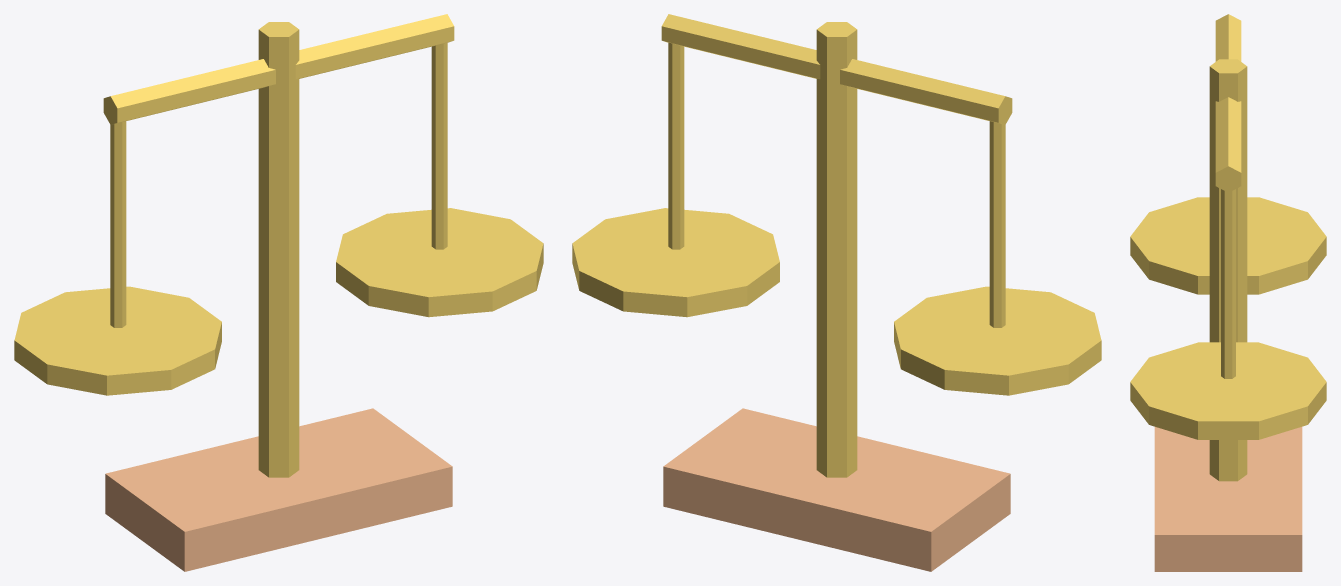
3 renders of one model, left to right at view 1: azimuth 30°, elevation 25°; view 2: azimuth 150°, elevation 25°; view 3: azimuth 270°, elevation 25°, orthographic. The views are drawn at different scales.
Parts seen in each view (by area): view 1: Base, Pillar, Scale pan.001, Scale pan, Beam, Suspension.001, Suspension; view 2: Base, Pillar, Scale pan.001, Scale pan, Beam, Suspension.001, Suspension; view 3: Base, Scale pan.001, Scale pan, Pillar, Beam, Suspension.001.
Boxes of the visible parts, x1=… form: Base: x1=105, y1=408, x2=452, y2=571; Pillar: x1=258, y1=22, x2=299, y2=477; Scale pan.001: x1=336, y1=208, x2=543, y2=317; Scale pan: x1=14, y1=286, x2=221, y2=395; Beam: x1=103, y1=14, x2=454, y2=124; Suspension.001: x1=431, y1=42, x2=447, y2=249; Suspension: x1=110, y1=121, x2=126, y2=327; Base: x1=663, y1=408, x2=1010, y2=571; Pillar: x1=816, y1=22, x2=857, y2=477; Scale pan.001: x1=572, y1=208, x2=779, y2=317; Scale pan: x1=894, y1=286, x2=1101, y2=395; Beam: x1=661, y1=14, x2=1012, y2=124; Suspension.001: x1=668, y1=42, x2=684, y2=249; Suspension: x1=989, y1=121, x2=1005, y2=327; Base: x1=1154, y1=427, x2=1302, y2=571; Scale pan.001: x1=1130, y1=342, x2=1326, y2=439; Scale pan: x1=1130, y1=197, x2=1326, y2=294; Pillar: x1=1209, y1=59, x2=1247, y2=481; Beam: x1=1215, y1=14, x2=1241, y2=192; Suspension.001: x1=1221, y1=189, x2=1235, y2=378.
Size of the model in its own units: 64.83 by 60 by 24.
